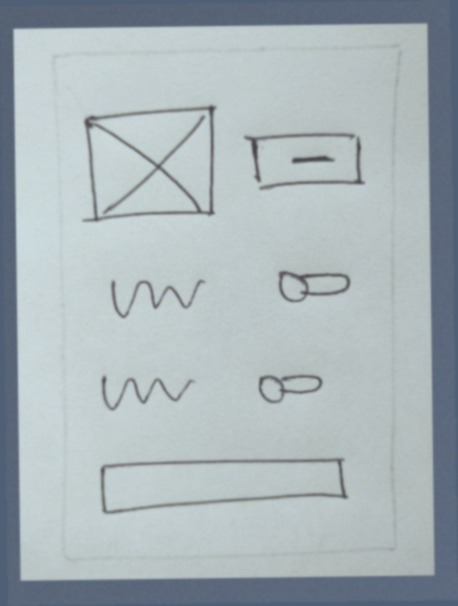button: (240, 126, 370, 194)
image: (78, 104, 221, 230)
switch: (268, 265, 357, 314), (250, 365, 327, 413)
text: (103, 273, 213, 321), (96, 368, 195, 418)
text_input: (94, 454, 352, 520)
